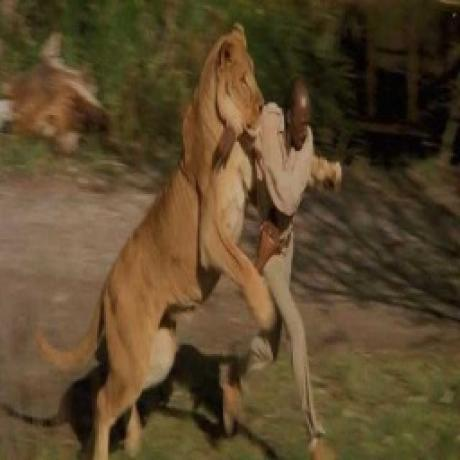Lion: (28, 12, 271, 460)
